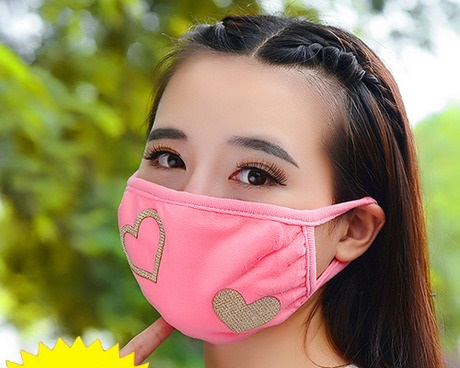face_mask: (118, 58, 342, 326)
